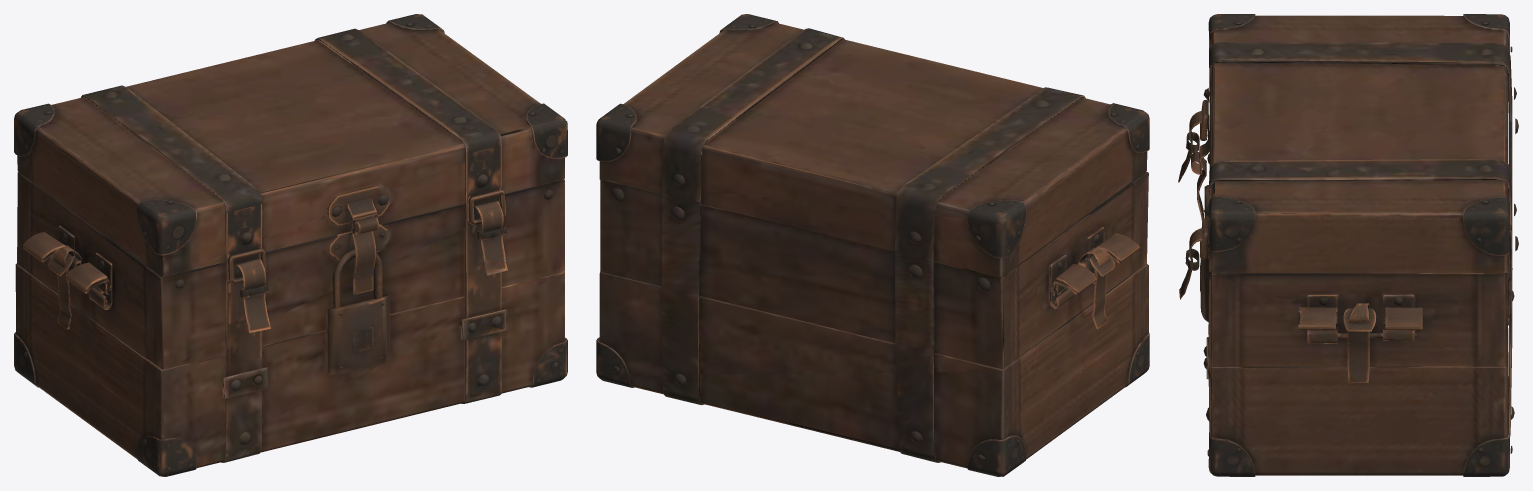
The model's file is old_trunk.glb.
The picture shows the model from 3 angles, left to right: view 1: azimuth 30°, elevation 25°; view 2: azimuth 150°, elevation 25°; view 3: azimuth 270°, elevation 25°; orthographic projection.
Size of the model in its own units: 0.9 by 0.4956 by 0.5542.
1 material, 1 textured.
